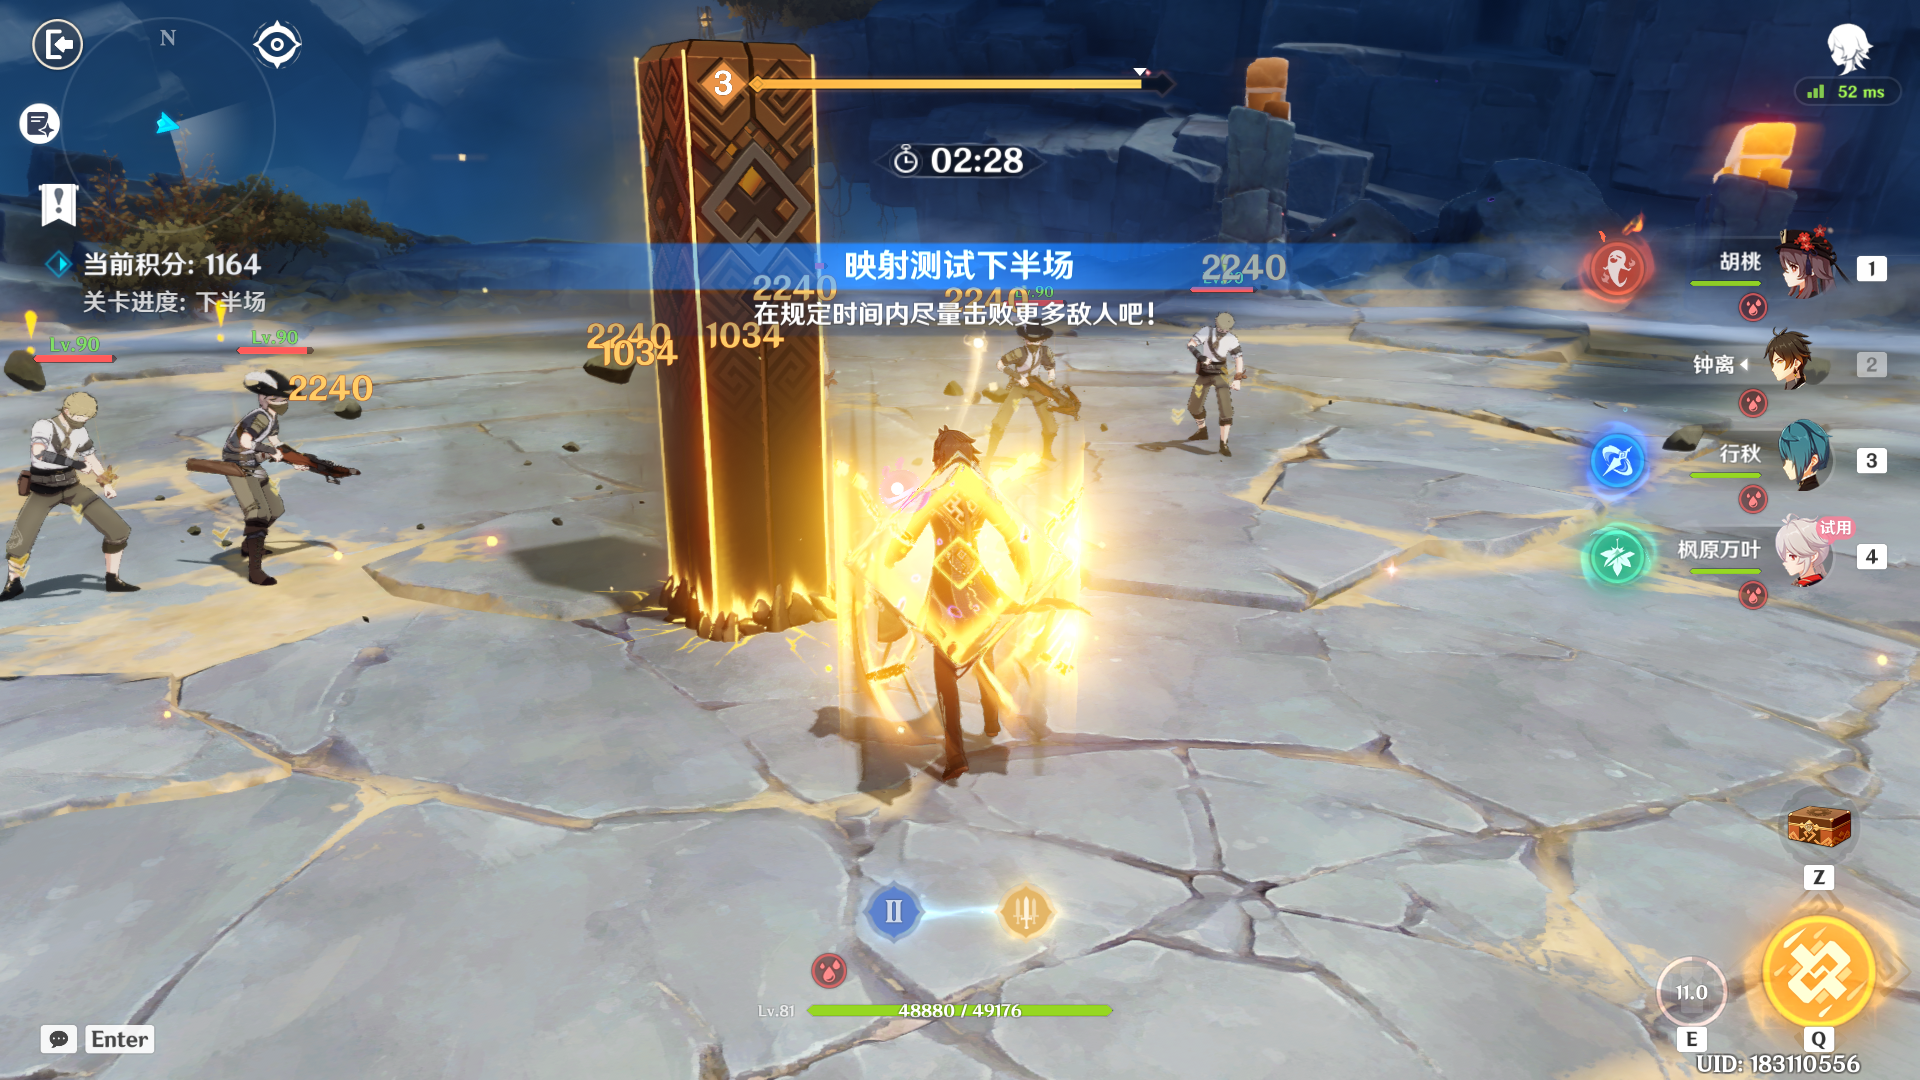character: (855, 415, 1063, 799)
robber: (165, 355, 373, 597), (1, 369, 158, 618), (957, 287, 1105, 498), (1147, 284, 1261, 475)
